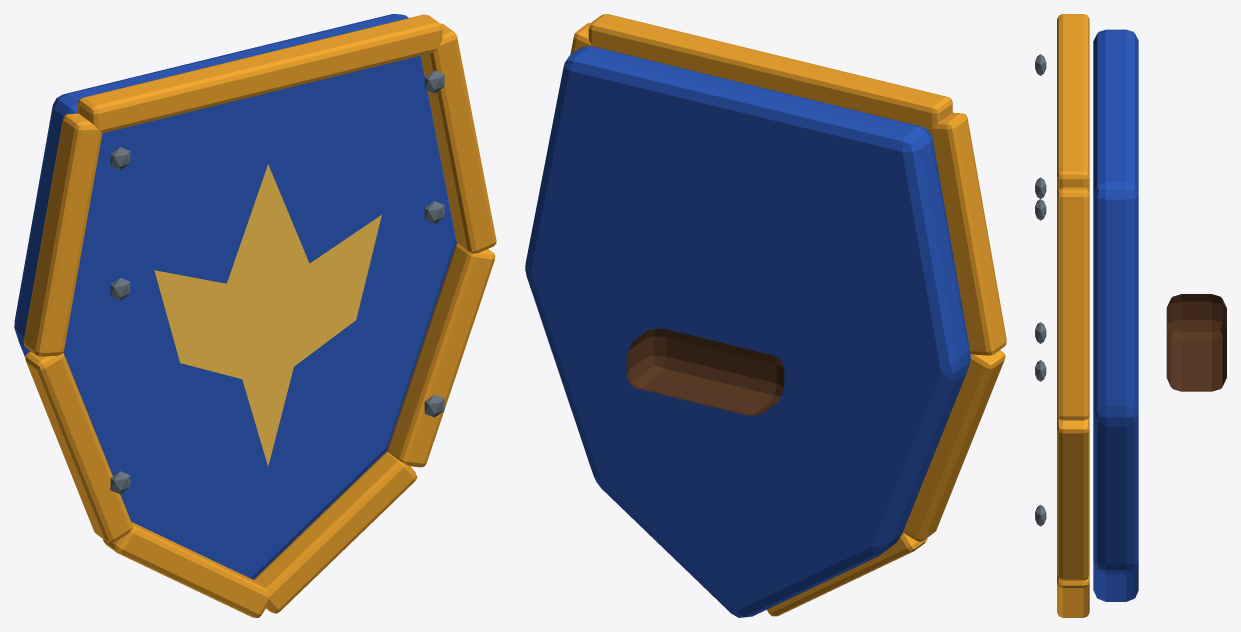
The model's file is shield.glb.
The picture shows the model from 3 angles, left to right: view 1: azimuth 30°, elevation 25°; view 2: azimuth 150°, elevation 25°; view 3: azimuth 270°, elevation 25°; orthographic projection. The views are drawn at different scales.
Parts seen in each view (by area): view 1: Shield blue field, Shield gold heraldry, Shield gold rim, Shield gold rim.006, Shield gold rim.002, Shield gold rim.001, Shield gold rim.003, Shield gold rim.005, Shield gold rim.004; view 2: Shield blue field, Shield gold rim, Shield hand grip, Shield gold rim.006, Shield gold rim.005, Shield gold rim.004; view 3: Shield blue field, Shield gold rim.001, Shield hand grip, Shield gold rim, Shield gold rim.002, Shield gold rim.003.
Boxes of the visible parts, x1,y1,x2,y2 form: Shield blue field: [14, 14, 456, 579]; Shield gold heraldry: [154, 164, 381, 466]; Shield gold rim: [78, 14, 442, 133]; Shield gold rim.006: [23, 113, 102, 356]; Shield gold rim.002: [387, 243, 495, 467]; Shield gold rim.001: [421, 23, 496, 253]; Shield gold rim.003: [254, 451, 417, 613]; Shield gold rim.005: [25, 351, 132, 542]; Shield gold rim.004: [103, 522, 268, 617]; Shield blue field: [525, 46, 970, 617]; Shield gold rim: [588, 14, 952, 130]; Shield hand grip: [626, 328, 784, 415]; Shield gold rim.006: [929, 112, 1006, 355]; Shield gold rim.005: [903, 350, 1005, 541]; Shield gold rim.004: [767, 533, 927, 616]; Shield blue field: [1093, 29, 1138, 601]; Shield gold rim.001: [1057, 187, 1089, 420]; Shield hand grip: [1166, 294, 1226, 391]; Shield gold rim: [1057, 14, 1089, 190]; Shield gold rim.002: [1057, 416, 1089, 580]; Shield gold rim.003: [1057, 575, 1089, 617].
Size of the model in its own units: 0.9968 by 1.14 by 0.3811.
